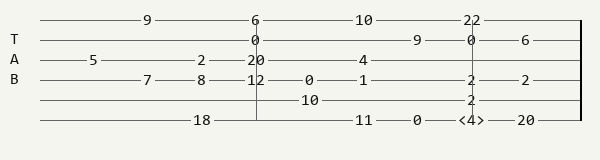0: (251, 33, 264, 47), (305, 73, 318, 87), (413, 113, 426, 127), (467, 33, 480, 47)
1: (359, 73, 372, 87)
10: (301, 93, 323, 107), (355, 13, 377, 27)
11: (355, 113, 377, 127)
12: (247, 73, 269, 87)
18: (193, 113, 215, 127)
2: (197, 53, 210, 67), (467, 93, 480, 107), (467, 73, 480, 87), (521, 73, 534, 87)
20: (247, 53, 269, 67), (517, 113, 539, 127)
22: (463, 13, 485, 27)
4: (359, 53, 372, 67)
5: (89, 53, 102, 67)
6: (251, 13, 264, 27), (521, 33, 534, 47)
7: (143, 73, 156, 87)
8: (197, 73, 210, 87)
9: (143, 13, 156, 27), (413, 33, 426, 47)
harmonic: (458, 113, 489, 127)
